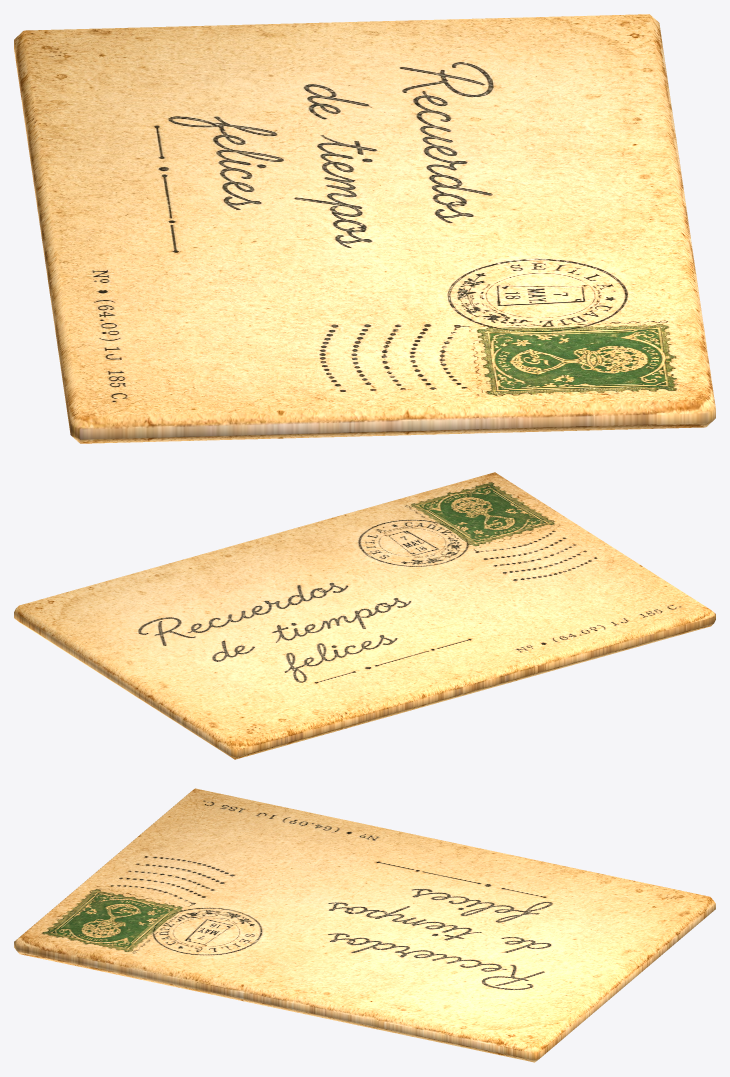
The model's file is carta2.glb.
The picture shows the model from 3 angles, top to bottom: view 1: azimuth 30°, elevation 25°; view 2: azimuth 150°, elevation 25°; view 3: azimuth 270°, elevation 25°; orthographic projection. The views are drawn at different scales.
Visible parts, largest first — view 1: ChamferBox001; view 2: ChamferBox001; view 3: ChamferBox001.
Part boxes in pixels (x1=…): ChamferBox001: x1=14, y1=14, x2=715, y2=443; ChamferBox001: x1=14, y1=472, x2=715, y2=759; ChamferBox001: x1=14, y1=788, x2=715, y2=1062.
Size of the model in its own units: 0.2906 by 0.00867 by 0.3289.
Materials: 1 (1 with a texture image).
